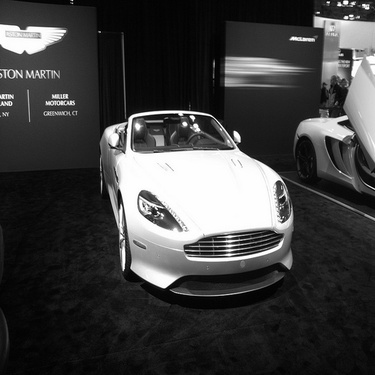car: (87, 101, 298, 302), (290, 54, 373, 207)
